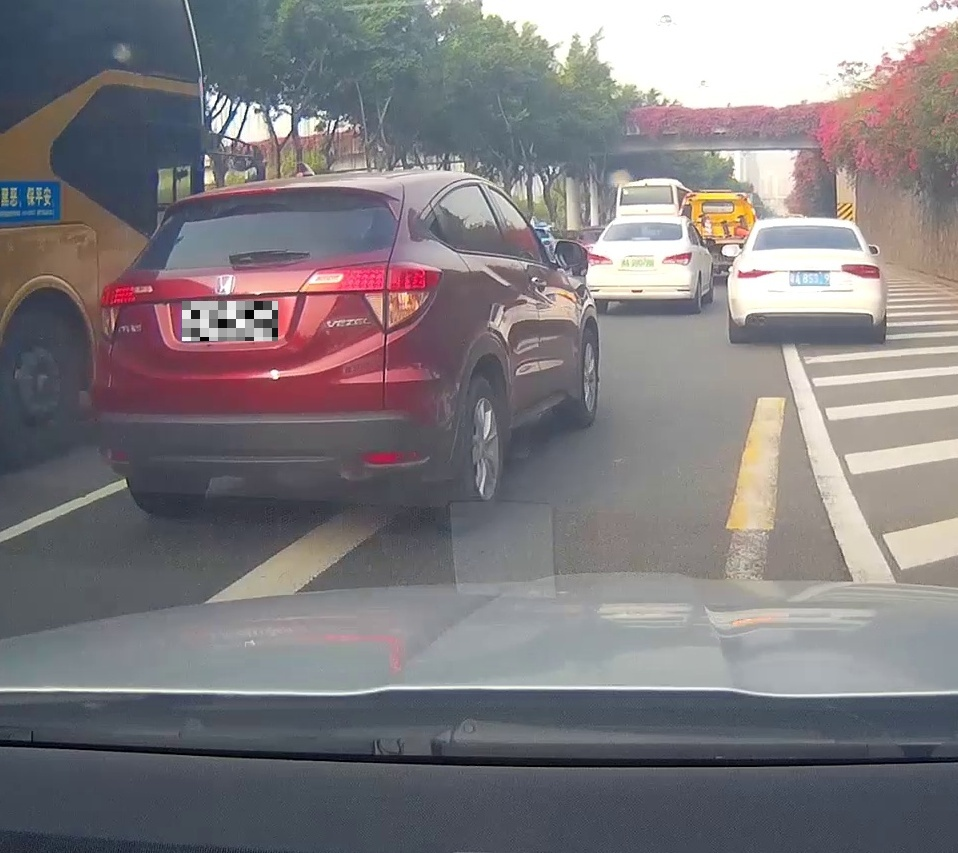L_light: (96, 281, 158, 339), (737, 265, 775, 277), (587, 253, 612, 266)
R_light: (298, 260, 442, 333), (842, 264, 880, 279), (662, 252, 691, 265)
T_light: (219, 187, 279, 198), (793, 225, 819, 230), (631, 236, 651, 242)
day-left: (726, 217, 886, 344)
day-no: (90, 173, 445, 515), (585, 215, 693, 313)
plate_1: (182, 301, 278, 341)
